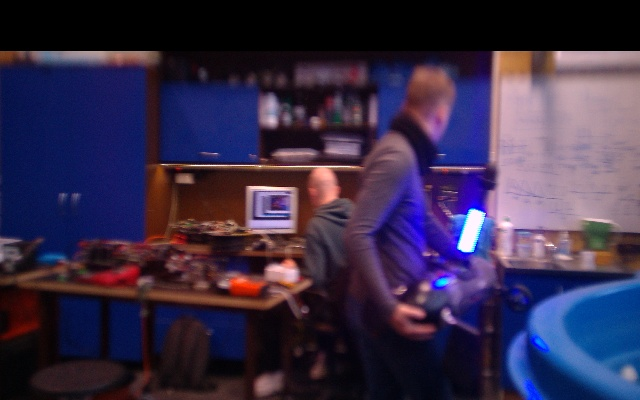blue: (456, 207, 486, 254)
